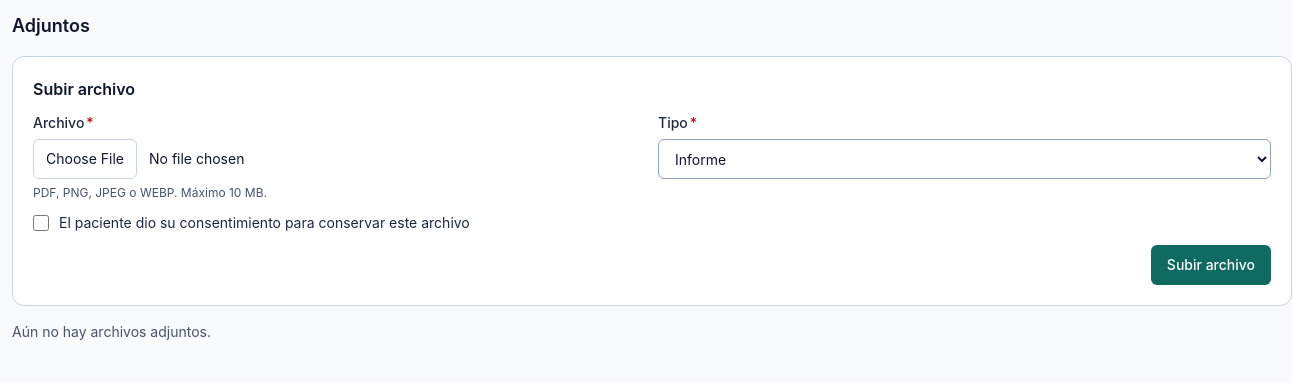
AttachmentsPanel: subida › sin elegir archivo pide elegirlo
The image size is (1292, 383).
Click the button "Subir archivo": {"x": 1211, "y": 265} [1151,245,1271,285]
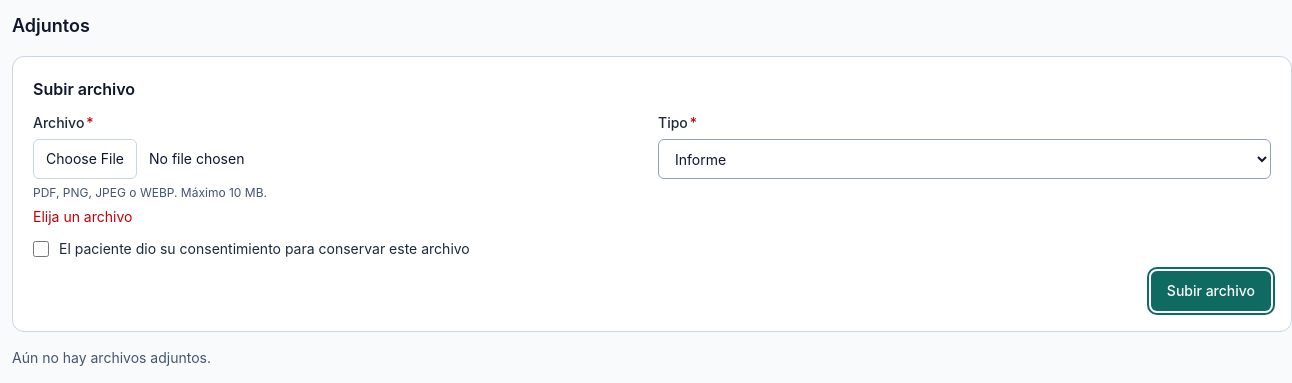
Expected: the text "Elija un archivo" is shown, [33,208,132,225]
